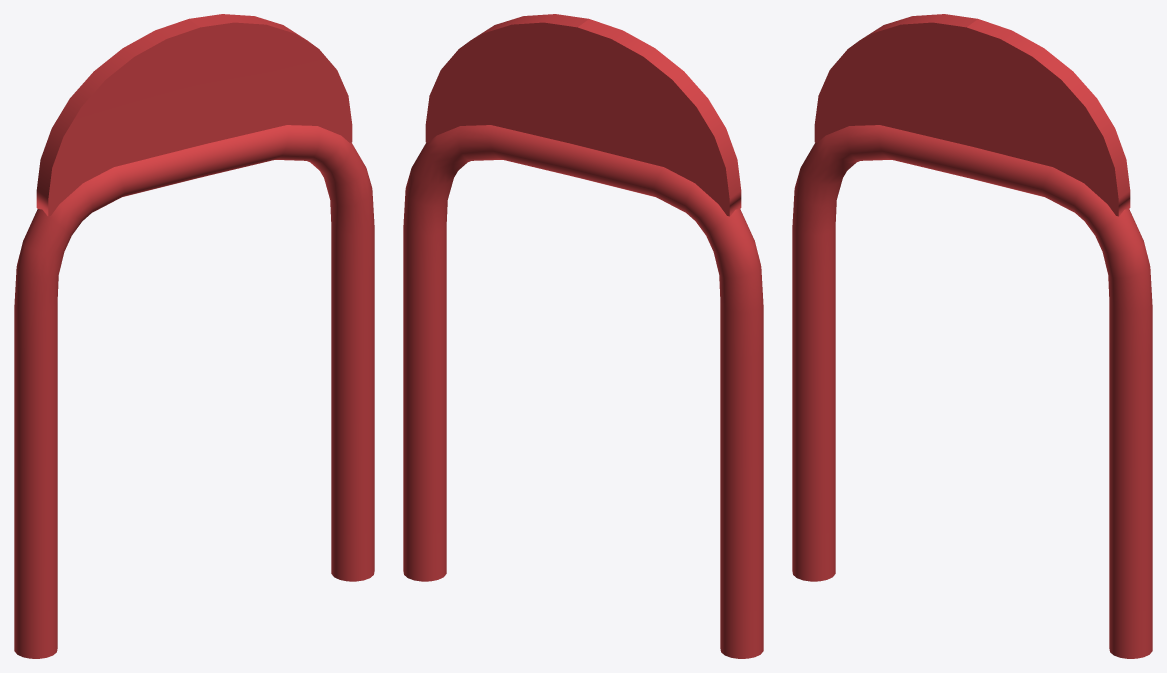
File: Red Door 2.fbx
The picture shows the model from 3 angles, left to right: view 1: azimuth 30°, elevation 25°; view 2: azimuth 150°, elevation 25°; view 3: azimuth 330°, elevation 25°; orthographic projection.
Visible parts, largest first — view 1: door_tax_v1; view 2: door_tax_v1; view 3: door_tax_v1.
Boxes of the visible parts, bbox=[...] form: door_tax_v1: bbox=[14, 14, 374, 658]; door_tax_v1: bbox=[403, 14, 763, 658]; door_tax_v1: bbox=[792, 14, 1152, 658].
Size of the model in its own units: 269 by 425 by 28.25.
